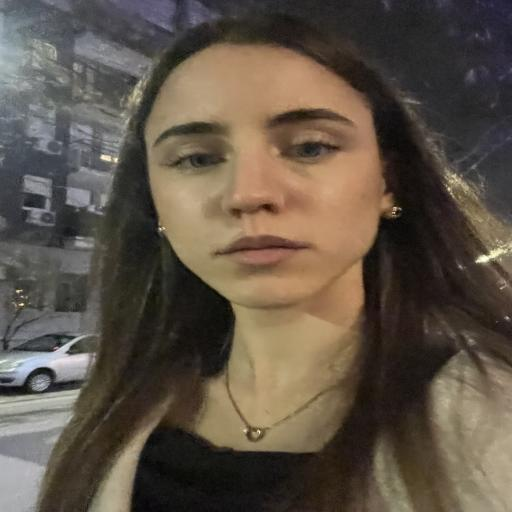masa: (138, 44, 402, 295)
